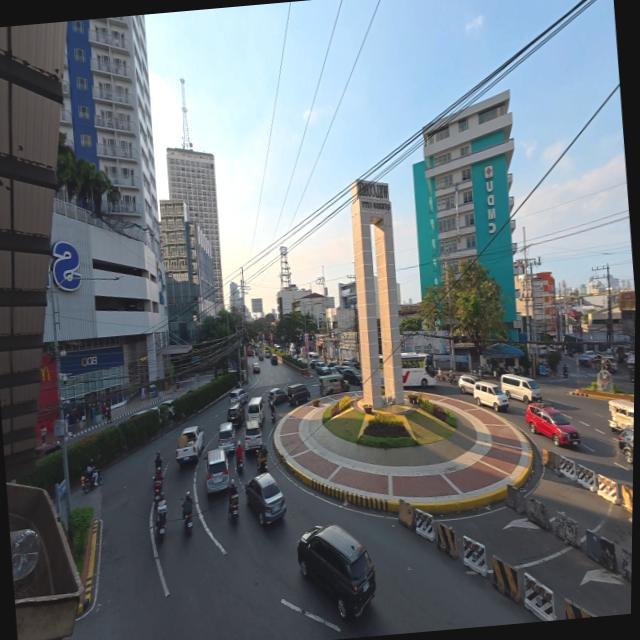Jeepneys: (608, 399, 633, 430), (319, 374, 348, 396)
bus: (401, 353, 434, 388)
car: (297, 525, 374, 619), (525, 403, 580, 446), (244, 473, 286, 525), (204, 448, 228, 493), (617, 425, 640, 467), (242, 420, 262, 453), (216, 422, 235, 453), (286, 384, 309, 406), (226, 402, 244, 425), (340, 367, 361, 385), (457, 376, 475, 394), (228, 388, 246, 404), (267, 388, 285, 404), (599, 357, 617, 372), (159, 399, 173, 418), (314, 362, 329, 375), (308, 360, 322, 369), (328, 365, 341, 374), (351, 359, 361, 370), (584, 351, 596, 360), (633, 374, 640, 388), (246, 345, 254, 357), (341, 360, 353, 367), (252, 363, 260, 373), (270, 354, 277, 364), (264, 350, 270, 358), (274, 344, 280, 351)
motorcycle: (155, 500, 165, 541), (181, 500, 192, 534), (228, 494, 240, 524), (80, 473, 93, 493), (153, 479, 163, 502), (183, 512, 192, 534), (256, 454, 266, 471), (236, 457, 242, 473), (436, 370, 444, 381), (448, 373, 456, 384), (270, 410, 275, 423), (562, 367, 567, 378)
trucks: (175, 426, 202, 464), (257, 347, 263, 360)
vans: (500, 375, 540, 402), (473, 382, 508, 411), (247, 397, 264, 426), (307, 352, 320, 363)
